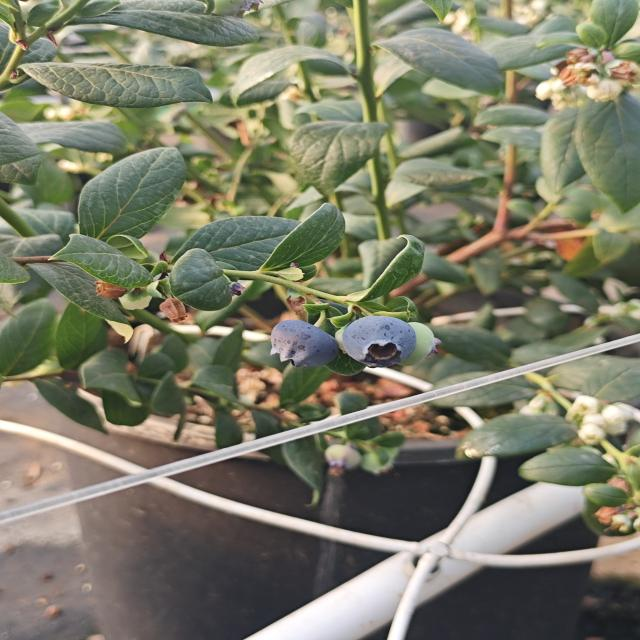ripe: (338, 314, 418, 369), (267, 318, 340, 371)
